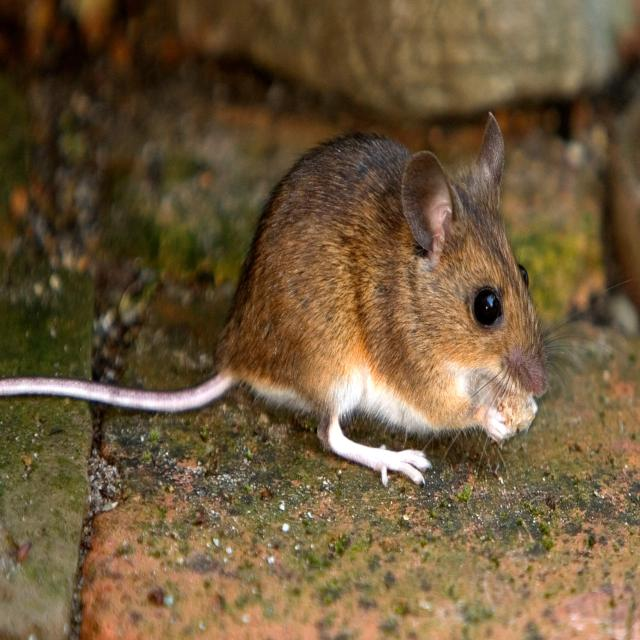rat: (0, 112, 574, 494)
